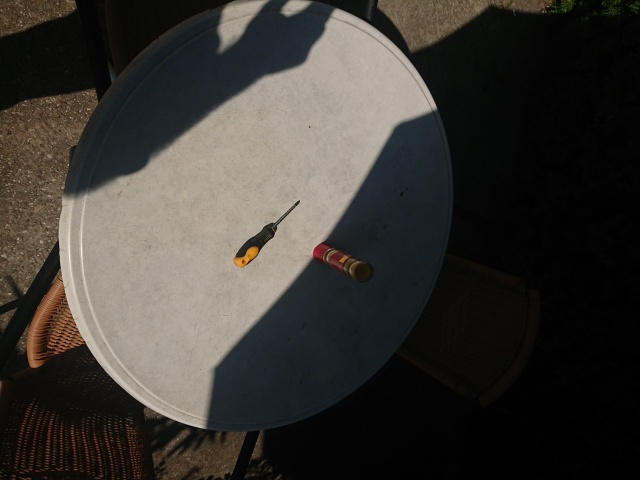Kotanyi Curry Spices Mix 70g: (311, 240, 375, 285)
